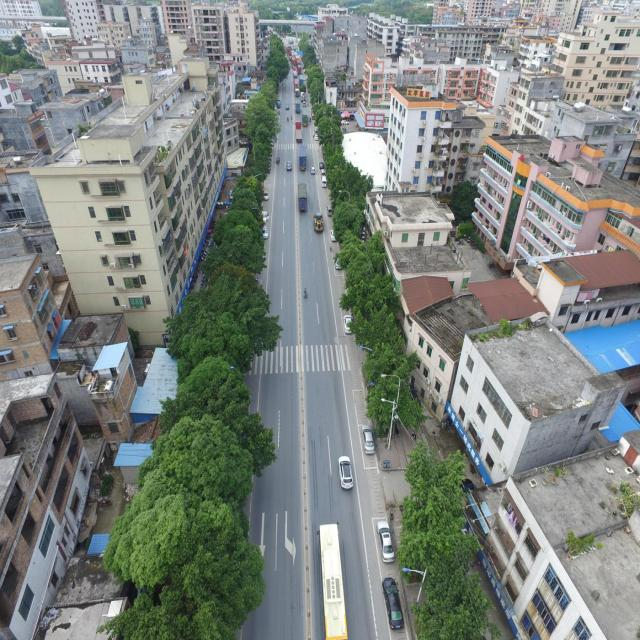car: (381, 576, 404, 630), (377, 520, 395, 563), (338, 456, 353, 489), (361, 424, 375, 454)
tree: (395, 438, 502, 639)
